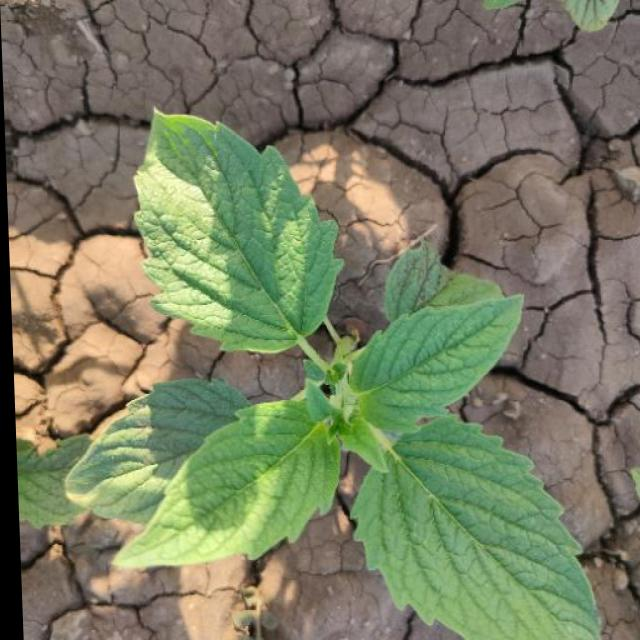crop: (99, 84, 597, 640)
